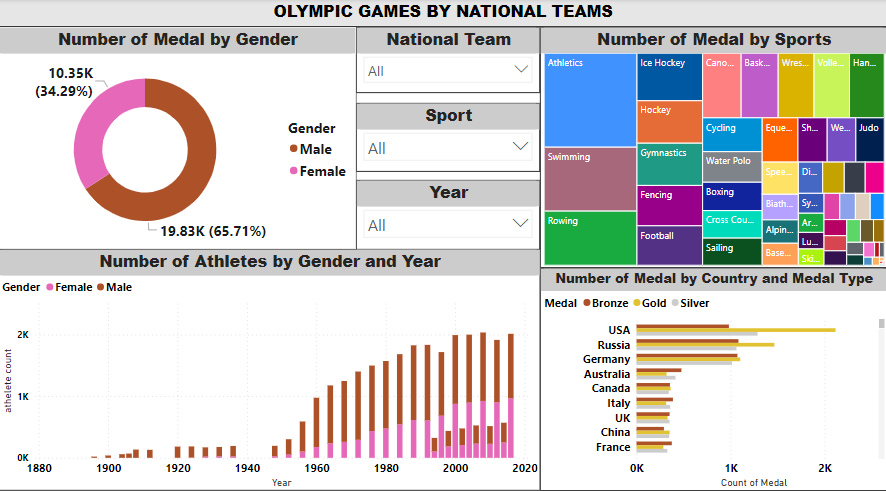

The page's visual inventory and layout, read from the dashboard file:
{"tool":"powerbi","page":{"name":"Page 2","canvas":[1280,720],"ordinal":1},"visuals":[{"type":"treemap","title":"Number of Medal by Sports","fields":{"Details":["Olympics_Data.Sport"],"Values":["CountNonNull(Olympics_Data.Medal)"]},"box":[780.5,40.3,499.7,347],"z":0},{"type":"clusteredBarChart","title":"Number of Medal by Country and Medal Type","fields":{"Series":["Olympics_Data.Medal"],"Category":["Olympics_Data.Country"],"Y":["CountNonNull(Olympics_Data.Medal)"]},"box":[780.5,387.4,499.7,321.1],"z":1000},{"type":"slicer","title":"National Team","fields":{"Values":["Olympics_Data.NOC"]},"box":[515.5,40.3,265,95],"z":2000},{"type":"slicer","title":"Sport","fields":{"Values":["Olympics_Data.Sport"]},"box":[515.5,149.8,265,99.4],"z":3000},{"type":"slicer","title":"Year","fields":{"Values":["Olympics_Data.Year"]},"box":[515.5,260.6,265,100.8],"z":4000},{"type":"actionButton","box":[0,0,100,40],"z":5000},{"type":"slicer","title":"OLYMPIC GAMES BY NATIONAL TEAMS","fields":{"Values":["Olympics_Data.Age"]},"box":[0,0,1280,40.3],"z":6000},{"type":"columnChart","title":"Number of Athletes by Gender and Year","fields":{"Category":["Olympics_Data.Year"],"Y":["Olympics_Data.athelete count"],"Series":["Olympics_Data.Sex"]},"box":[0,359.5,781.1,347.7],"z":7000},{"type":"donutChart","title":"Number of Medal by Gender","fields":{"Category":["Olympics_Data.Sex"],"Y":["CountNonNull(Olympics_Data.Medal)"]},"box":[0,40.3,515.5,319.7],"z":8000}]}

Visuals, with their boxes in screenshot pixels (x1, y1, x2, y2), scaled from the page's 1280x720 canvas onto the 886x491 screenshot:
"Number of Medal by Sports" treemap: locate(540, 27, 885, 264)
"Number of Medal by Country and Medal Type" clusteredBarChart: locate(540, 264, 885, 483)
"National Team" slicer: locate(357, 27, 540, 92)
"Sport" slicer: locate(357, 102, 540, 170)
"Year" slicer: locate(357, 178, 540, 246)
actionButton: locate(0, 0, 69, 27)
"OLYMPIC GAMES BY NATIONAL TEAMS" slicer: locate(0, 0, 885, 27)
"Number of Athletes by Gender and Year" columnChart: locate(0, 245, 541, 482)
"Number of Medal by Gender" donutChart: locate(0, 27, 357, 246)
